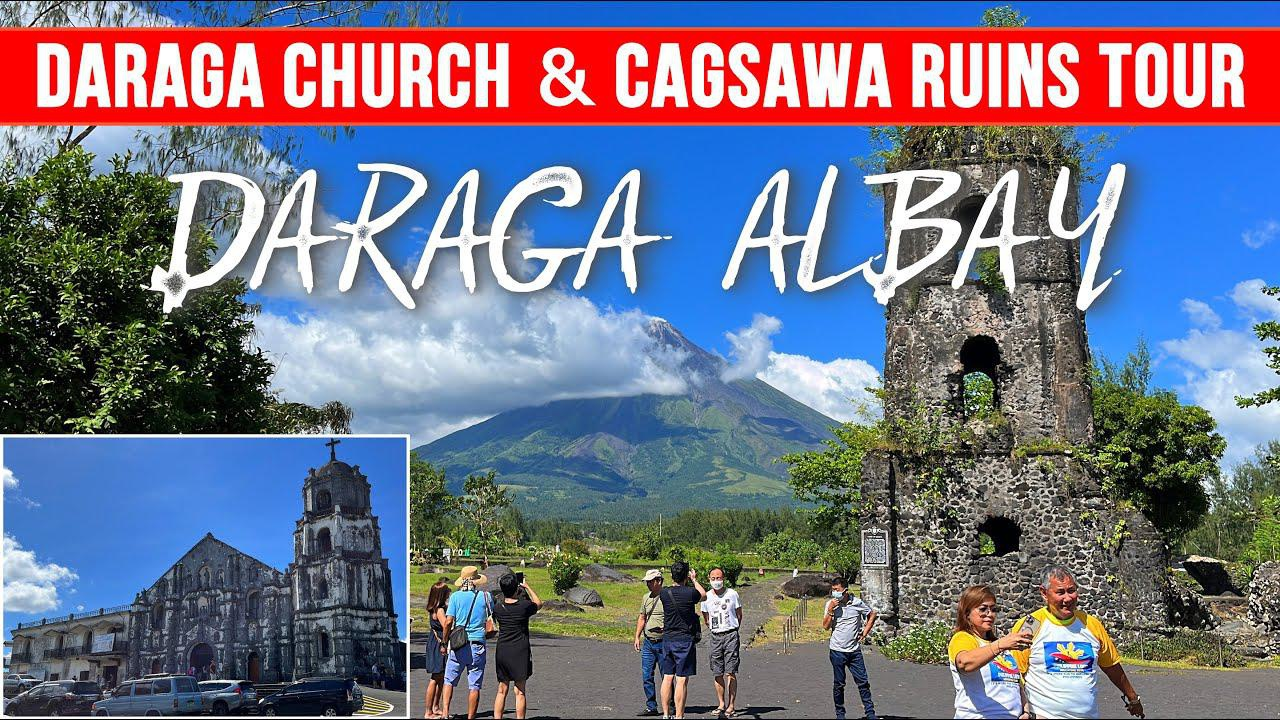daraga_church_daraga_albay: (130, 438, 405, 687)
vegetation_damage: (884, 391, 966, 540), (878, 124, 1094, 173), (1018, 436, 1078, 464), (976, 248, 1005, 294)
